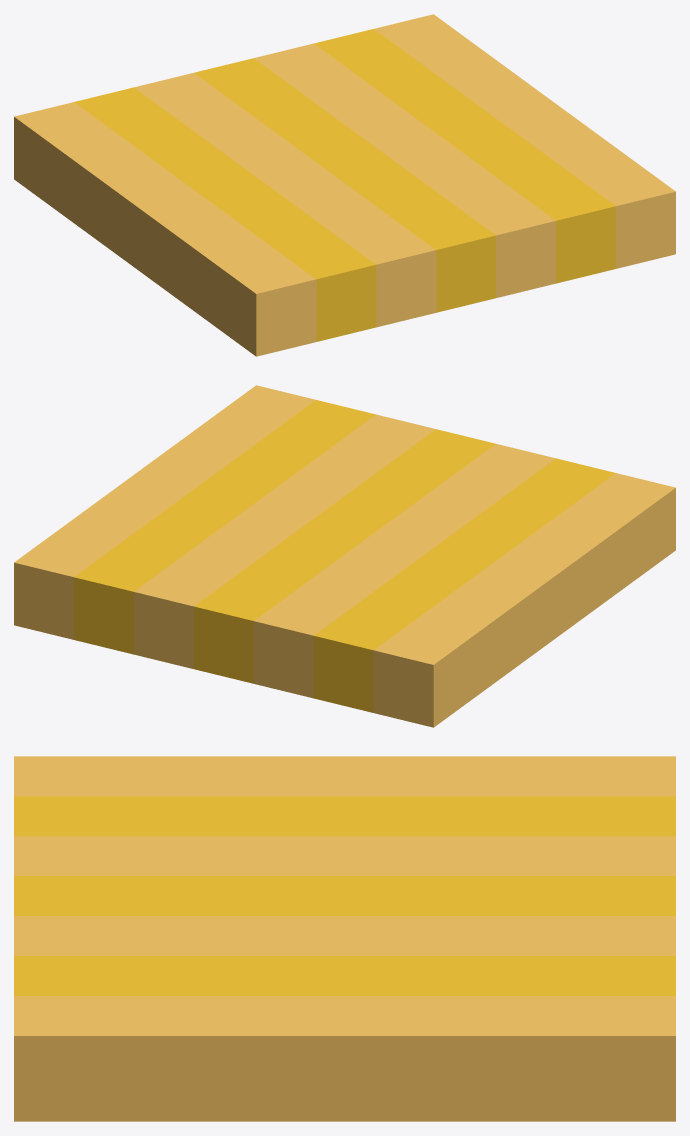
File: brick0.obj
The picture shows the model from 3 angles, top to bottom: view 1: azimuth 30°, elevation 25°; view 2: azimuth 150°, elevation 25°; view 3: azimuth 270°, elevation 25°; orthographic projection. The views are drawn at different scales.
Visible parts, largest first — view 1: brick0; view 2: brick0; view 3: brick0.
Part boxes in pixels (<box>): brick0: <box>14,14,675,356</box>; brick0: <box>14,385,675,727</box>; brick0: <box>14,756,675,1121</box>.
Size of the model in its own units: 7 by 1 by 7.
Materials: 1 (1 with a texture image).
